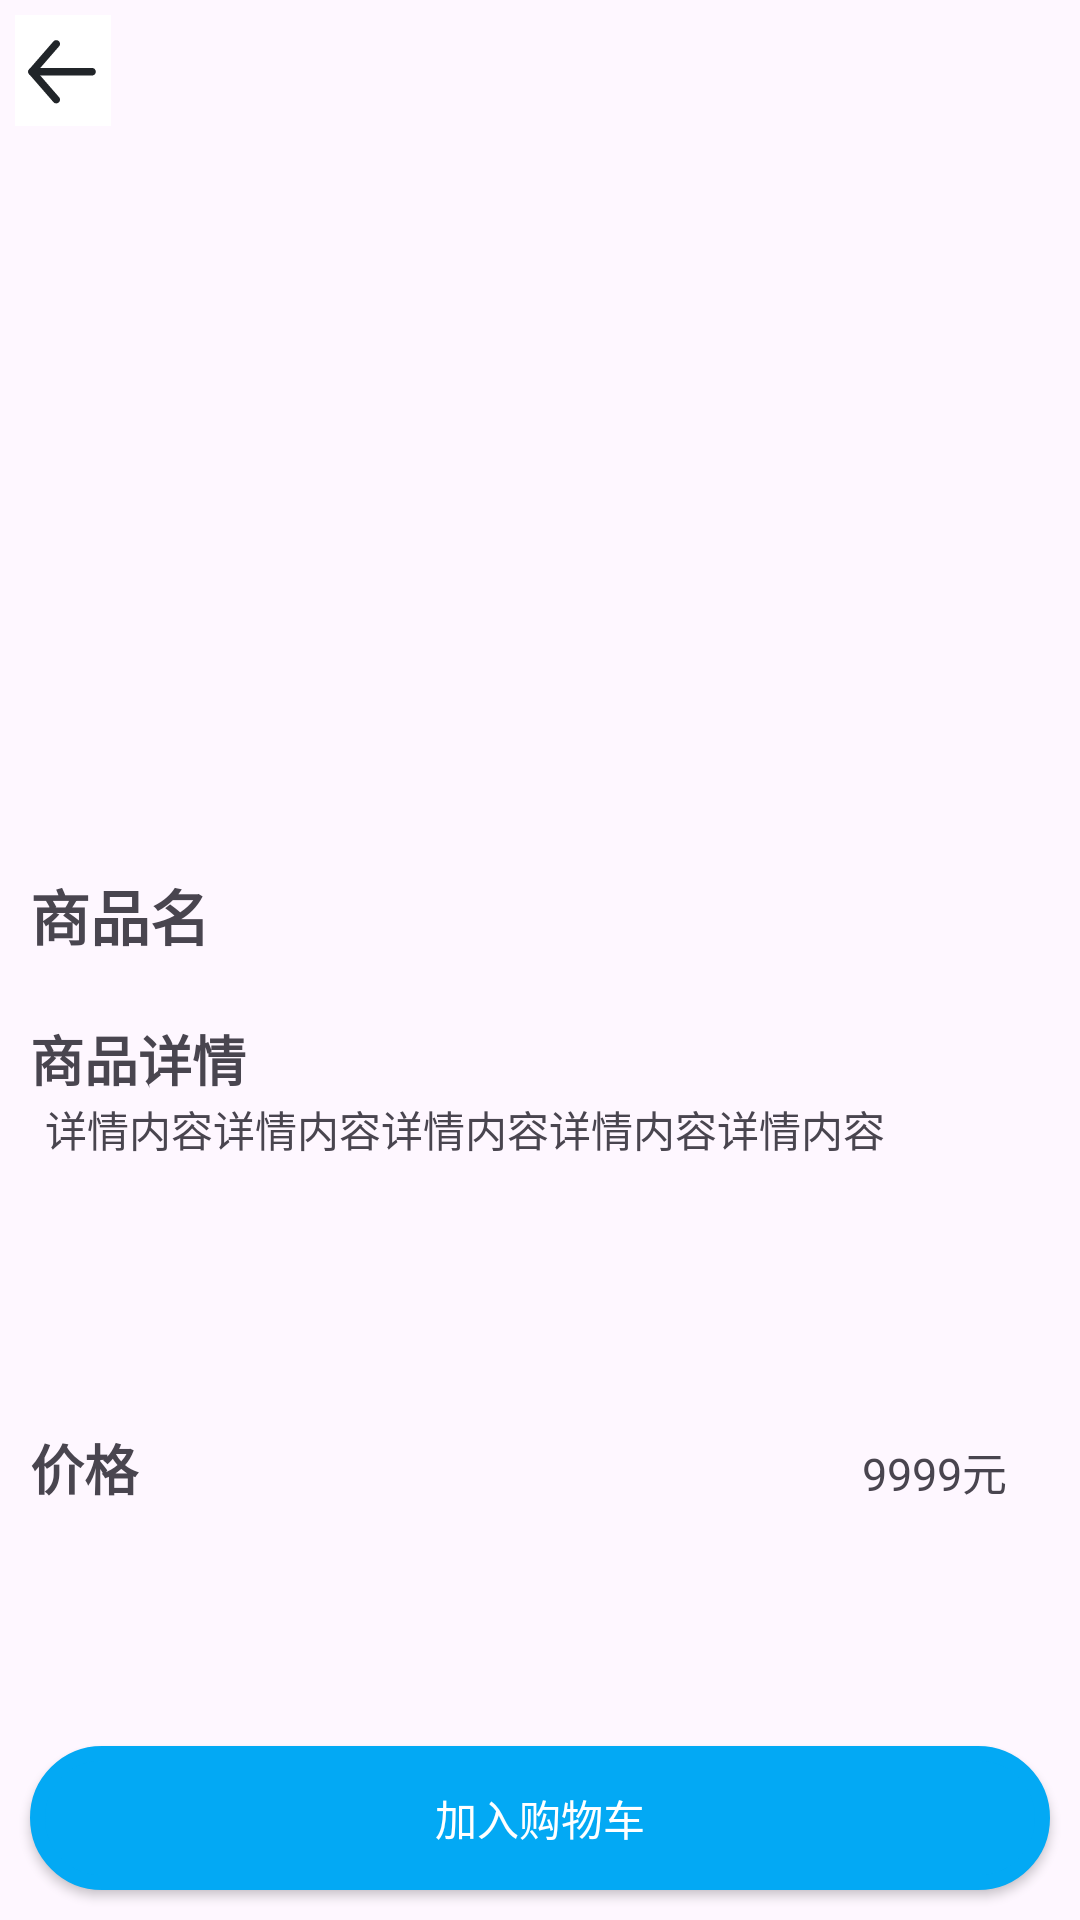

Icons on this 1080 x 1920 Android screen, each with the point to tap as [x,y]:
arrow left: [62,72]
